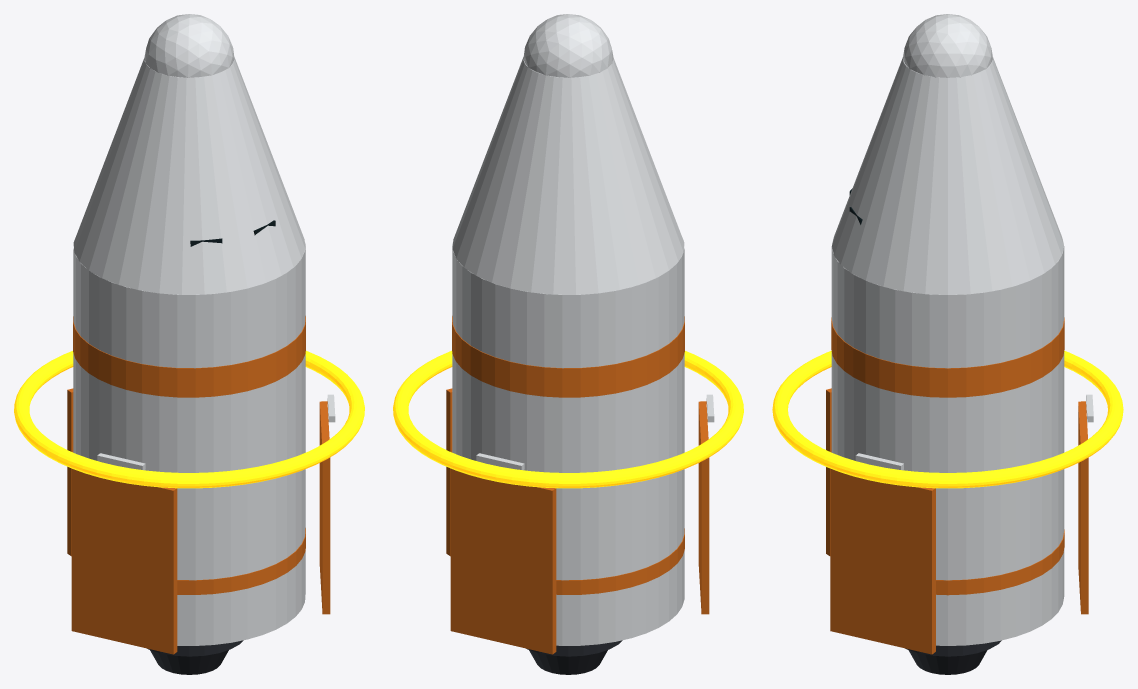
File: spaceship_dx90.glb
The picture shows the model from 3 angles, left to right: view 1: azimuth 30°, elevation 25°; view 2: azimuth 150°, elevation 25°; view 3: azimuth 270°, elevation 25°; orthographic projection.
Parts seen in each view (by area): view 1: hull, nose, fin, halo, stripe, tip, stripe2, bell, engine, spoke; view 2: hull, nose, fin, halo, stripe, tip, stripe2, bell, engine, spoke; view 3: hull, nose, fin, halo, stripe, tip, stripe2, bell, engine, spoke.
Part boxes in pixels (x1,y1,x2,y2): hull: (73, 238, 305, 645); nose: (73, 57, 305, 294); fin: (67, 388, 330, 654); halo: (14, 350, 364, 488); stripe: (73, 316, 305, 397); tip: (144, 14, 234, 77); stripe2: (177, 528, 305, 594); bell: (150, 650, 228, 674); engine: (147, 640, 243, 656); spoke: (97, 394, 335, 470); hull: (452, 238, 684, 645); nose: (452, 57, 684, 294); fin: (446, 388, 709, 654); halo: (393, 350, 743, 488); stripe: (452, 316, 684, 397); tip: (523, 14, 613, 77); stripe2: (556, 528, 684, 594); bell: (529, 650, 607, 674); engine: (526, 640, 622, 656); spoke: (476, 394, 714, 470); hull: (831, 238, 1064, 645); nose: (832, 57, 1063, 294); fin: (826, 388, 1088, 654); halo: (772, 350, 1123, 488); stripe: (831, 317, 1064, 397); tip: (903, 14, 992, 77); stripe2: (936, 529, 1064, 595); bell: (908, 650, 987, 674); engine: (905, 640, 1001, 656); spoke: (855, 394, 1093, 470).
Size of the model in its own units: 5.44 by 11 by 5.44.
